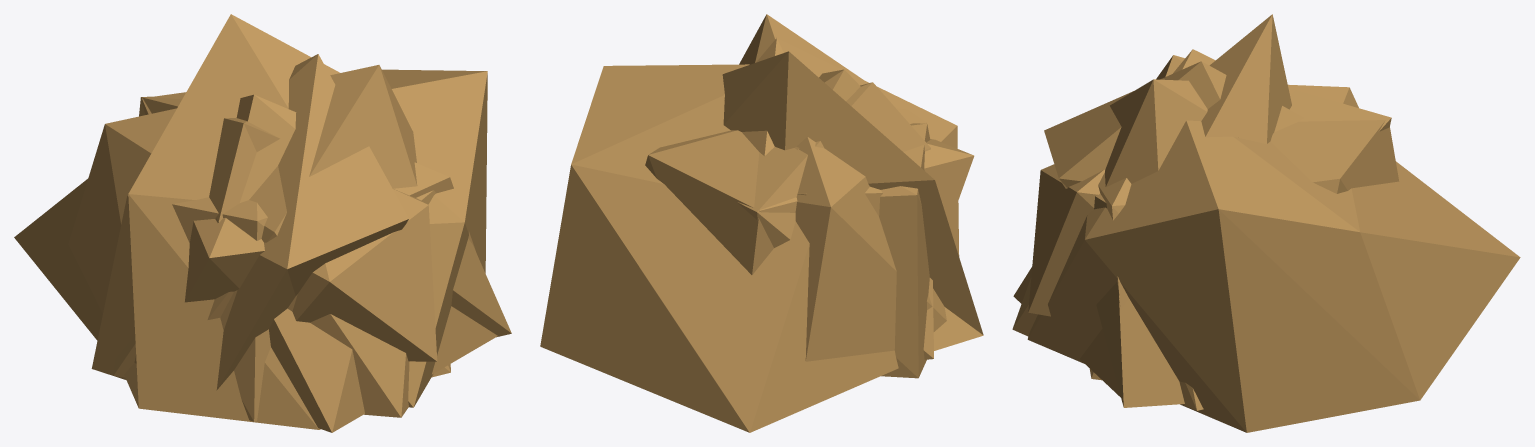
The model's file is Rocks.fbx.
3 renders of one model, left to right at view 1: azimuth 30°, elevation 25°; view 2: azimuth 150°, elevation 25°; view 3: azimuth 270°, elevation 25°, orthographic. The views are drawn at different scales.
Parts seen in each view (by area): view 1: Rock2-08, Rock2-02, Rock2-03, Rock2-05, Rock2-06, Rock2-01, Rock2-09, Rock2-04, Rock2-07; view 2: Rock2-03, Rock2-02, Rock2-08, Rock2-04, Rock2-09, Rock2-07, Rock2-05, Rock2-01; view 3: Rock2-03, Rock2-04, Rock2-02, Rock2-08, Rock2-05, Rock2-06, Rock2-01, Rock2-07.
Part boxes in pixels (bbox=[...]): Rock2-08: bbox=[124, 14, 339, 429]; Rock2-02: bbox=[68, 65, 417, 417]; Rock2-03: bbox=[14, 69, 487, 407]; Rock2-05: bbox=[216, 54, 408, 390]; Rock2-06: bbox=[292, 188, 437, 361]; Rock2-01: bbox=[236, 94, 497, 432]; Rock2-09: bbox=[91, 195, 450, 421]; Rock2-04: bbox=[141, 92, 511, 337]; Rock2-07: bbox=[113, 96, 279, 377]; Rock2-03: bbox=[540, 64, 898, 432]; Rock2-02: bbox=[739, 14, 946, 361]; Rock2-08: bbox=[722, 51, 983, 350]; Rock2-04: bbox=[645, 130, 974, 274]; Rock2-09: bbox=[879, 123, 930, 378]; Rock2-07: bbox=[737, 82, 933, 359]; Rock2-05: bbox=[724, 38, 959, 256]; Rock2-01: bbox=[794, 69, 860, 149]; Rock2-03: bbox=[1027, 120, 1520, 432]; Rock2-04: bbox=[1094, 120, 1399, 407]; Rock2-02: bbox=[1012, 79, 1358, 410]; Rock2-08: bbox=[1201, 14, 1291, 143]; Rock2-05: bbox=[1044, 61, 1303, 188]; Rock2-06: bbox=[1028, 164, 1104, 316]; Rock2-01: bbox=[1013, 49, 1215, 397]; Rock2-07: bbox=[1156, 55, 1391, 131].
Bounding box in the file's own units: 2.02 × 1.66 × 2.37.
